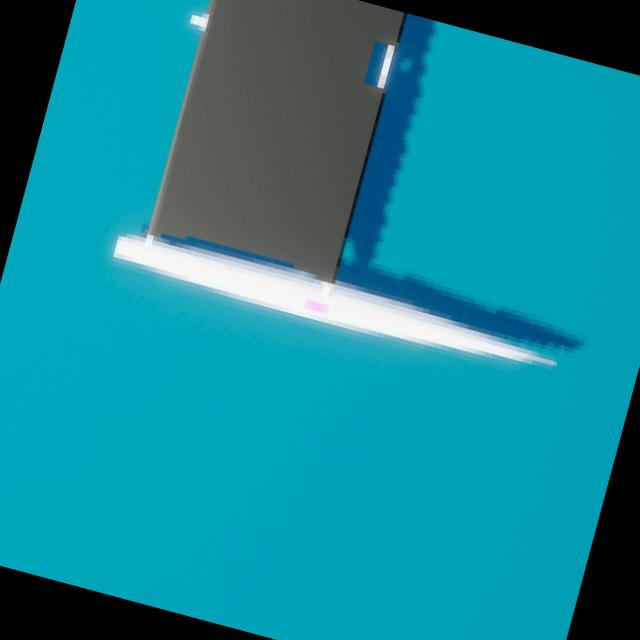boat: (73, 0, 640, 400)
drone: (151, 0, 403, 277)
